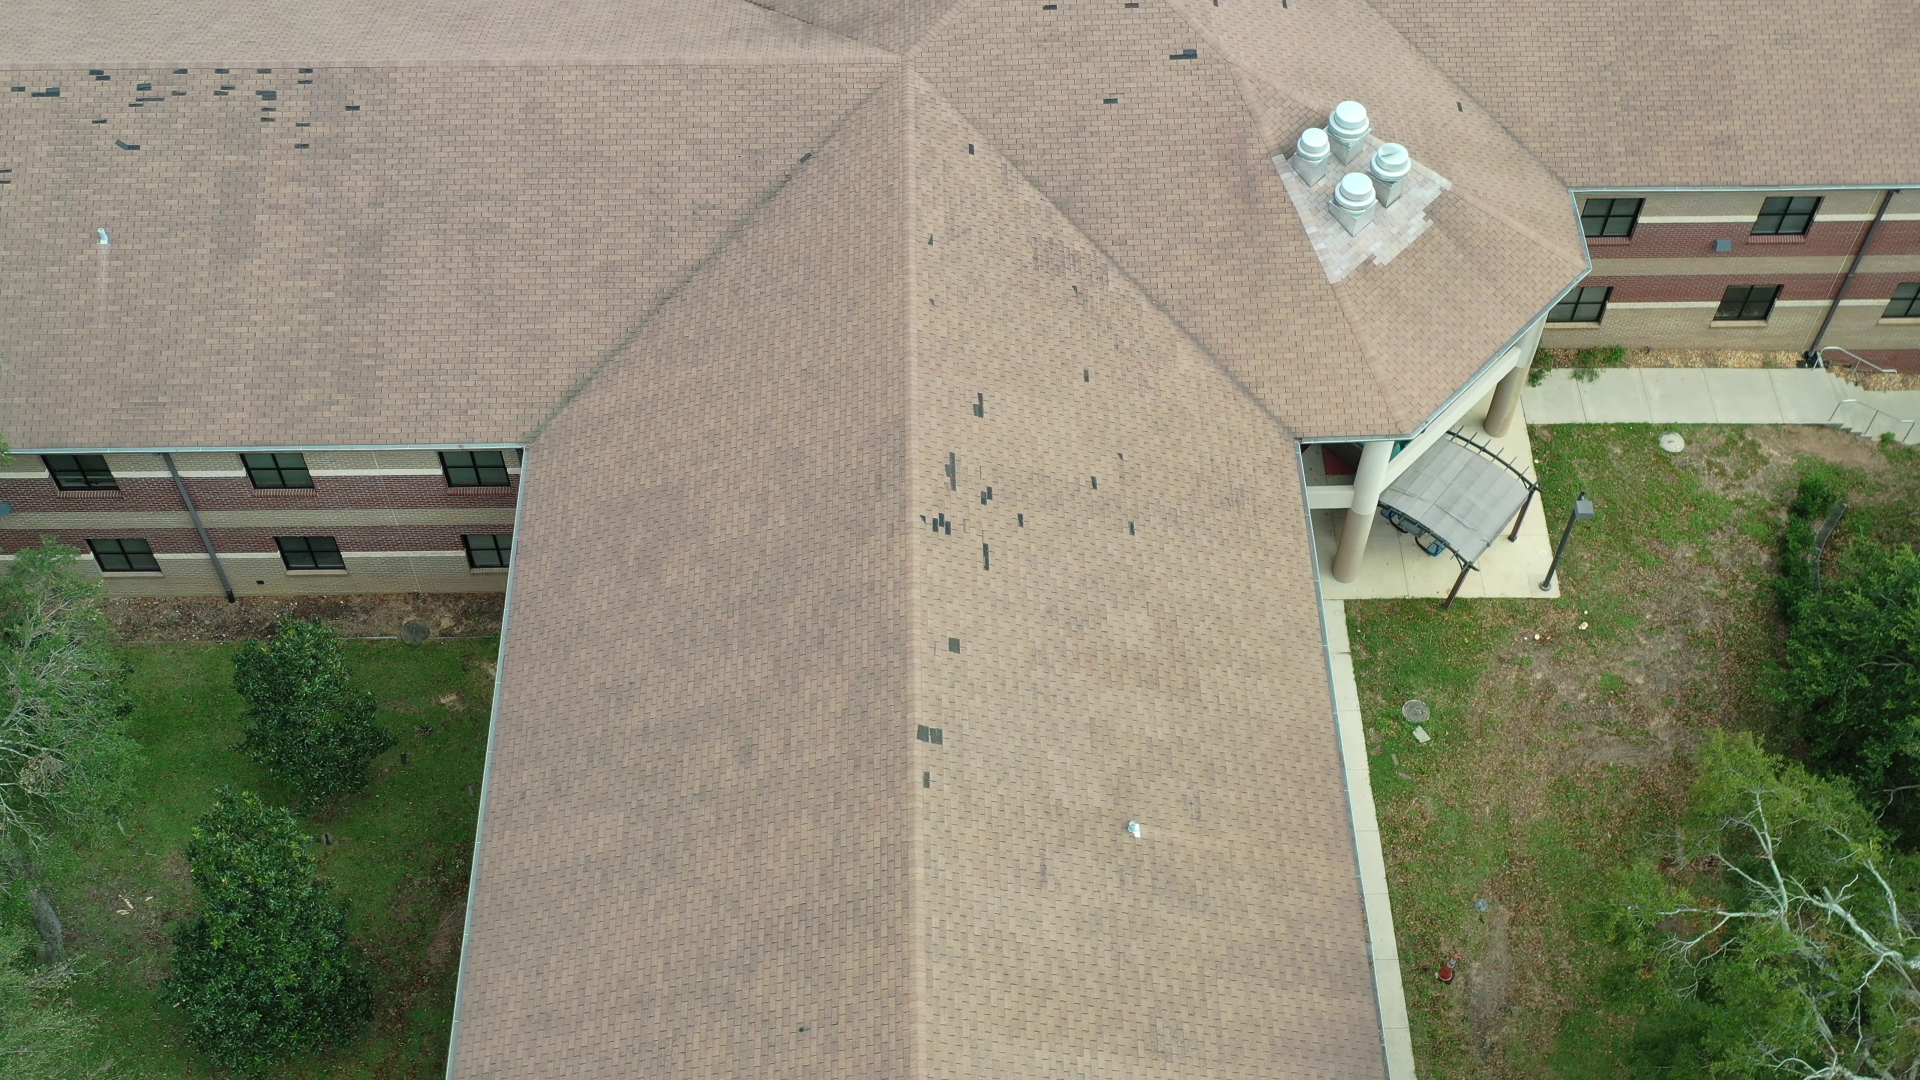Light: (11, 66, 361, 152), (919, 452, 1025, 572), (1089, 454, 1135, 535), (915, 724, 945, 790), (1168, 47, 1200, 62), (972, 392, 985, 418), (947, 636, 961, 654), (1101, 96, 1120, 105), (1042, 3, 1058, 12), (1083, 367, 1091, 384), (1124, 1, 1139, 9), (967, 142, 976, 156)
